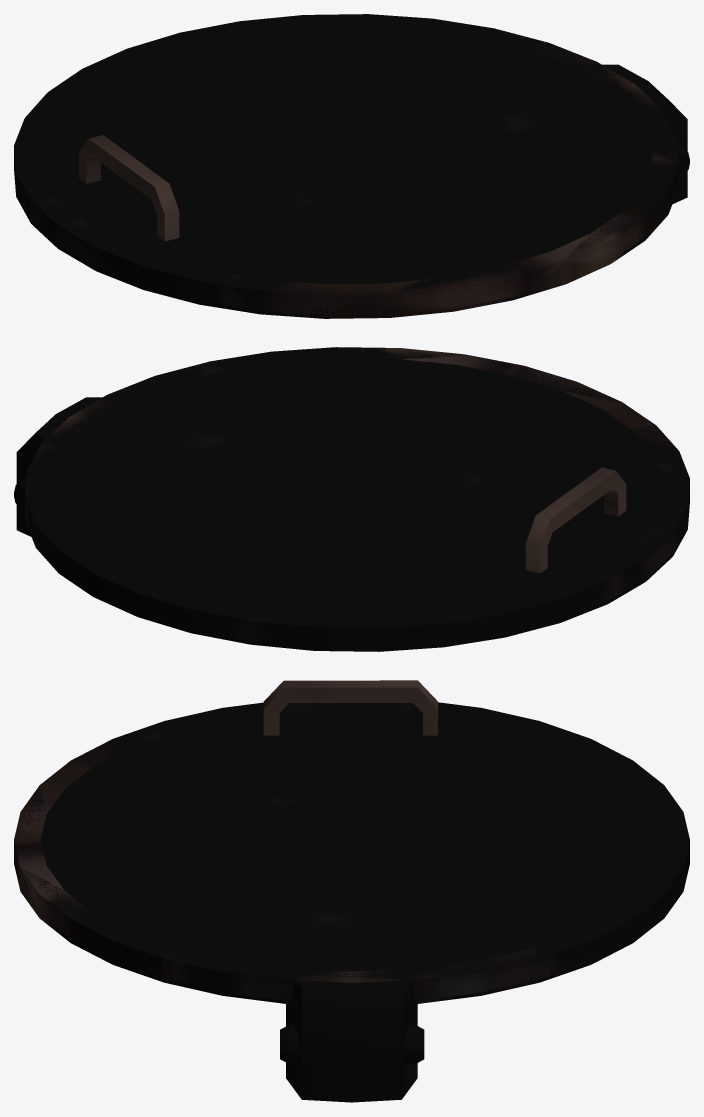
Rendered from 060tenderHatch.fbx.
The picture shows the model from 3 angles, top to bottom: view 1: azimuth 30°, elevation 25°; view 2: azimuth 150°, elevation 25°; view 3: azimuth 270°, elevation 25°; orthographic projection.
Parts seen in each view (by area): view 1: CarTankShort_LOD0.005; view 2: CarTankShort_LOD0.005; view 3: CarTankShort_LOD0.005.
Boxes of the visible parts, x1,y1,x2,y2 form: CarTankShort_LOD0.005: (14, 14, 689, 318); CarTankShort_LOD0.005: (14, 347, 689, 651); CarTankShort_LOD0.005: (14, 680, 689, 1102).
Bounding box in the file's own units: 89.21 × 20.85 × 84.33.
